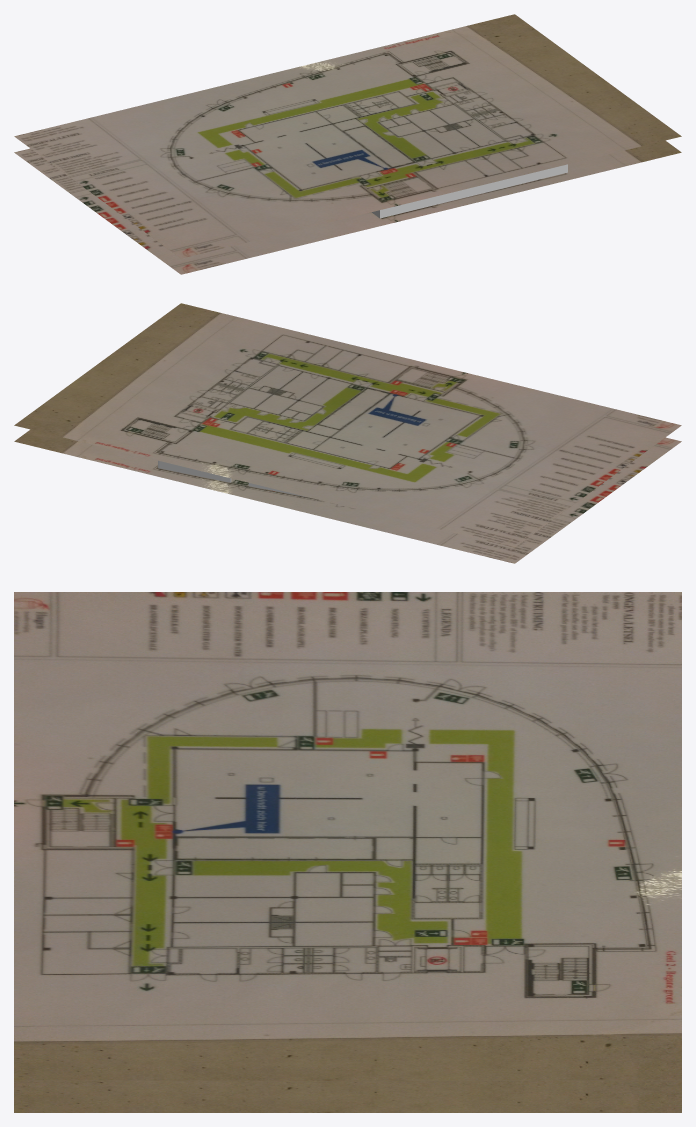
File: 3D_GWO_002.FBX
3 renders of one model, top to bottom at view 1: azimuth 30°, elevation 25°; view 2: azimuth 150°, elevation 25°; view 3: azimuth 270°, elevation 25°, orthographic. The views are drawn at different scales.
Parts seen in each view (by area): view 1: PLAFOND2, GROND2, 3D_2BE_001; view 2: PLAFOND2, GROND2, 3D_2BE_001; view 3: PLAFOND2, GROND2.
Part boxes in pixels (x1,y1,x2,y2): PLAFOND2: (14, 14, 681, 258); GROND2: (14, 140, 681, 274); 3D_2BE_001: (372, 164, 567, 218); PLAFOND2: (14, 303, 681, 547); GROND2: (14, 429, 681, 563); 3D_2BE_001: (158, 460, 308, 497); PLAFOND2: (14, 592, 681, 1080); GROND2: (14, 1080, 681, 1112).
Size of the model in its own units: 69279 by 2166 by 40034.
Materials: 1 (1 with a texture image).
